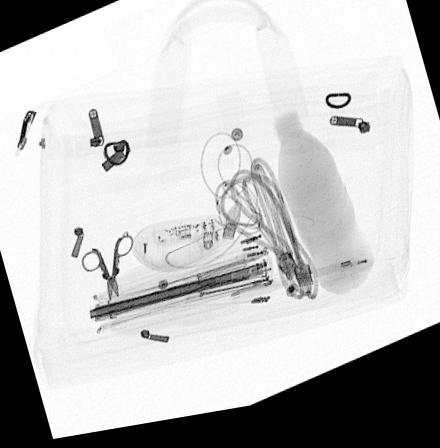Scissors: (80, 232, 133, 306)
